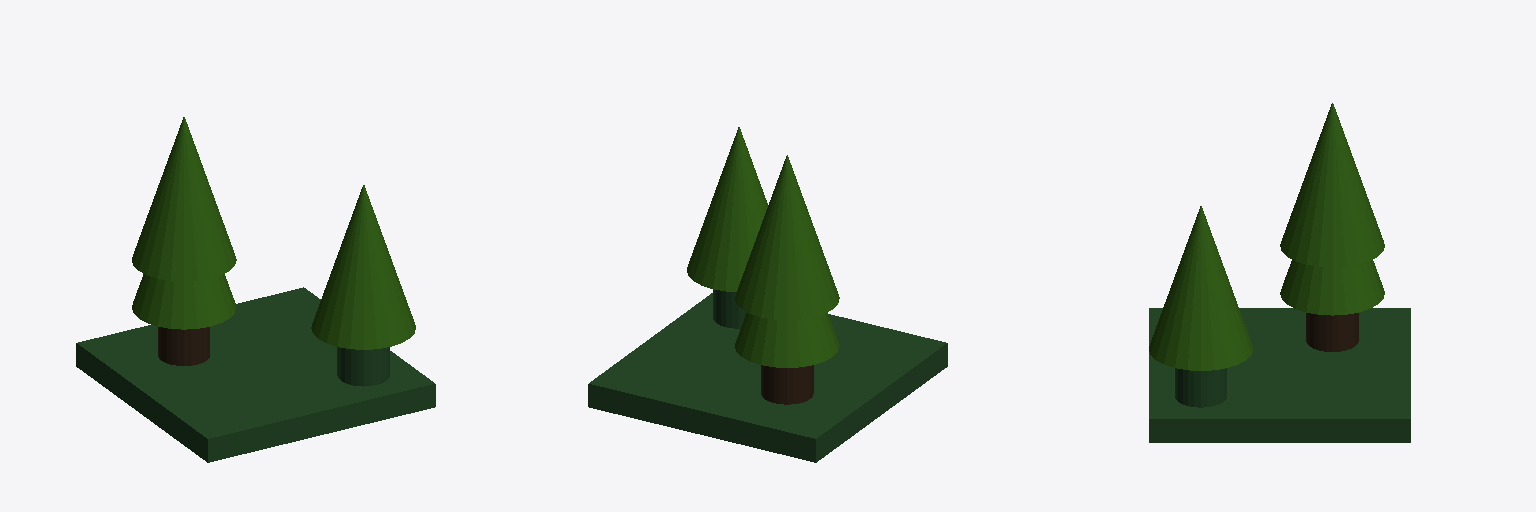
The model's file is treeTile1.obj.
3 renders of one model, left to right at view 1: azimuth 30°, elevation 25°; view 2: azimuth 150°, elevation 25°; view 3: azimuth 270°, elevation 25°, orthographic.
Size of the model in its own units: 1 by 1.1 by 1.